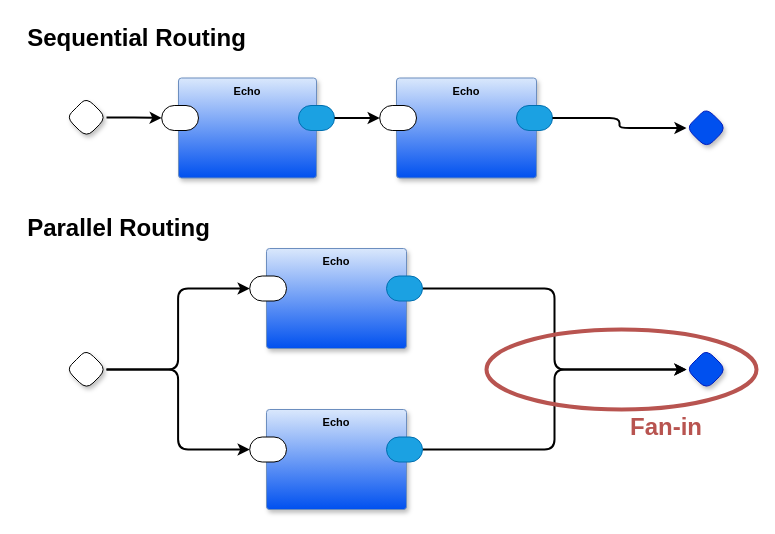
The diagram is 775 pixels wide and 534 high, and some of its shapes have lost their labels. The centre of each missing label's shape, as x and y in pixels:
par: the point at 707,370
seq: the point at 707,129
